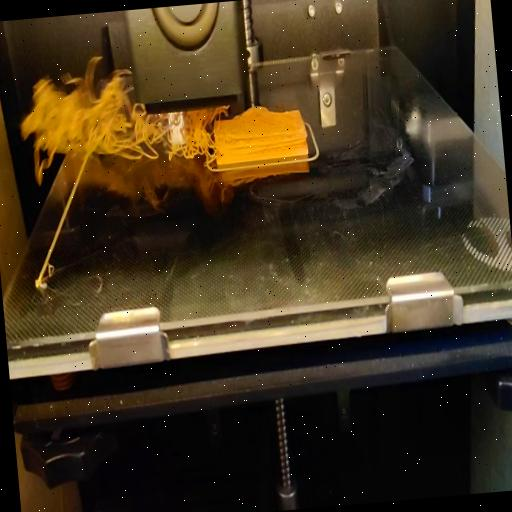spaghetti: (175, 102, 222, 162)
